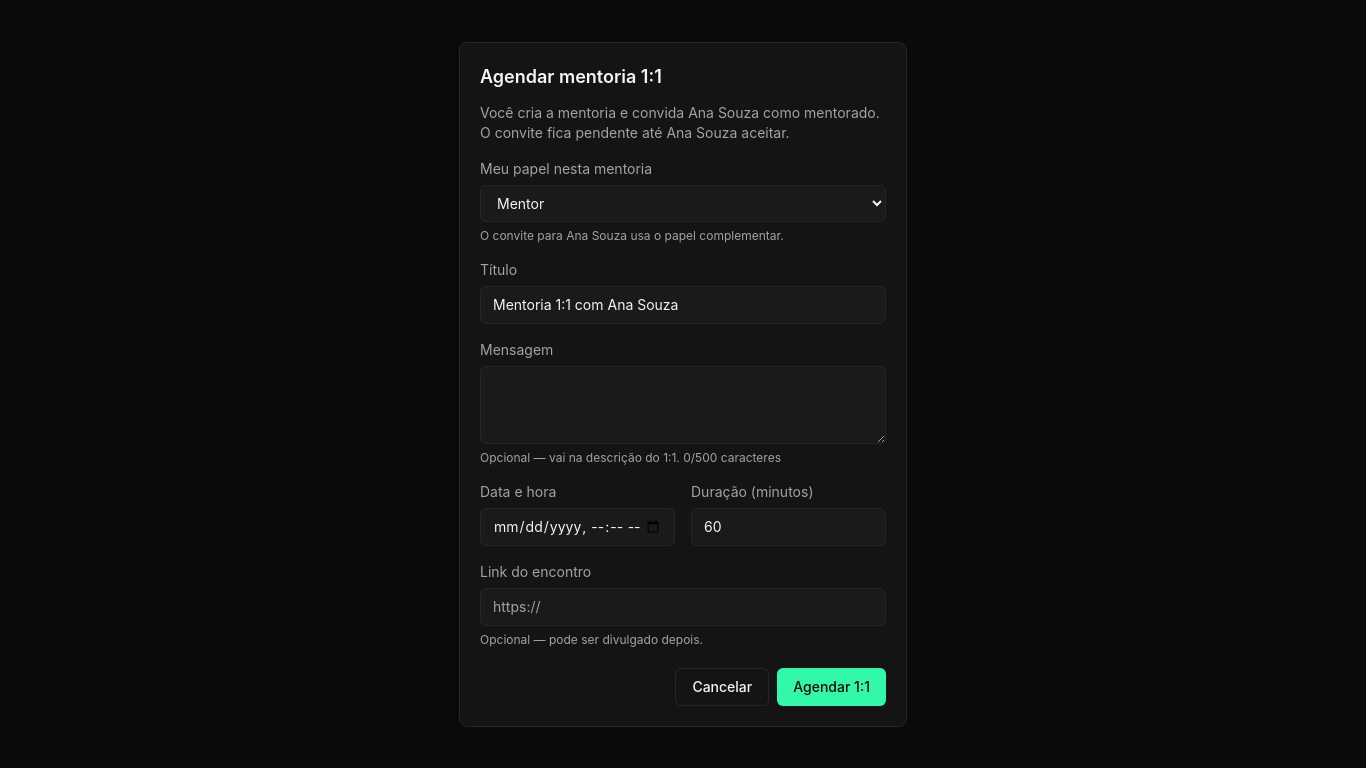
Test: ScheduleMentoringModal › sem data e hora nada é enviado para a API
This screenshot has width=1366, height=768.
Click the button "Agendar 1:1": point(832, 686) [777,668,886,706]
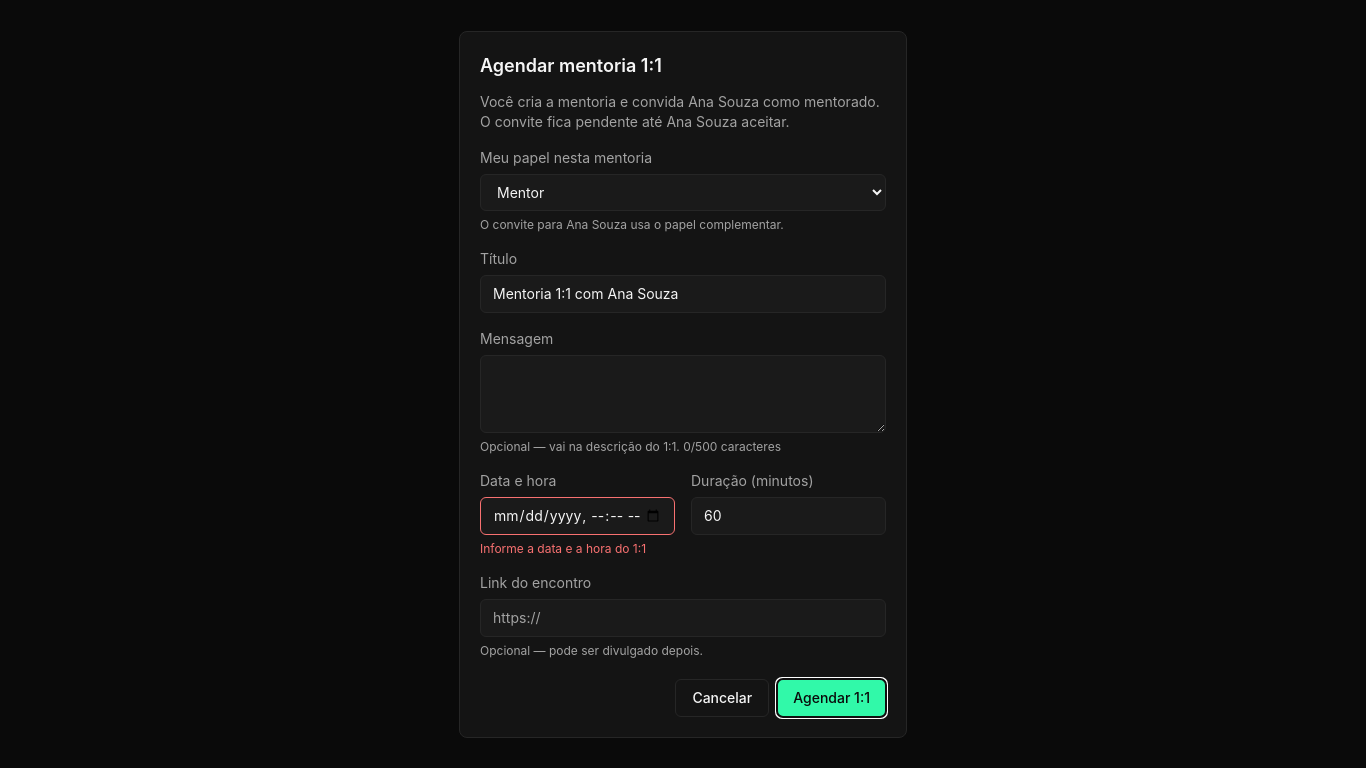
Result: the text "Informe a data e a hora do 1:1" is shown at [480,540,675,556]
